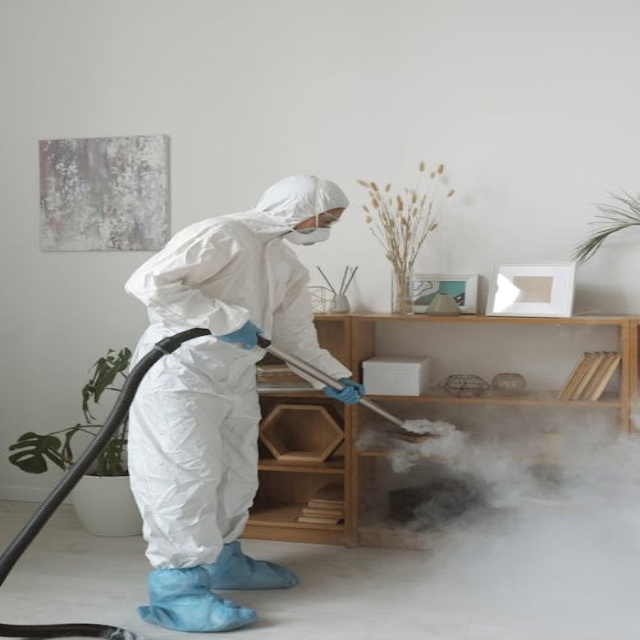Gafas: (308, 209, 344, 230)
Guantes: (216, 319, 262, 350), (324, 377, 366, 405)
Mascara: (286, 223, 332, 246)
